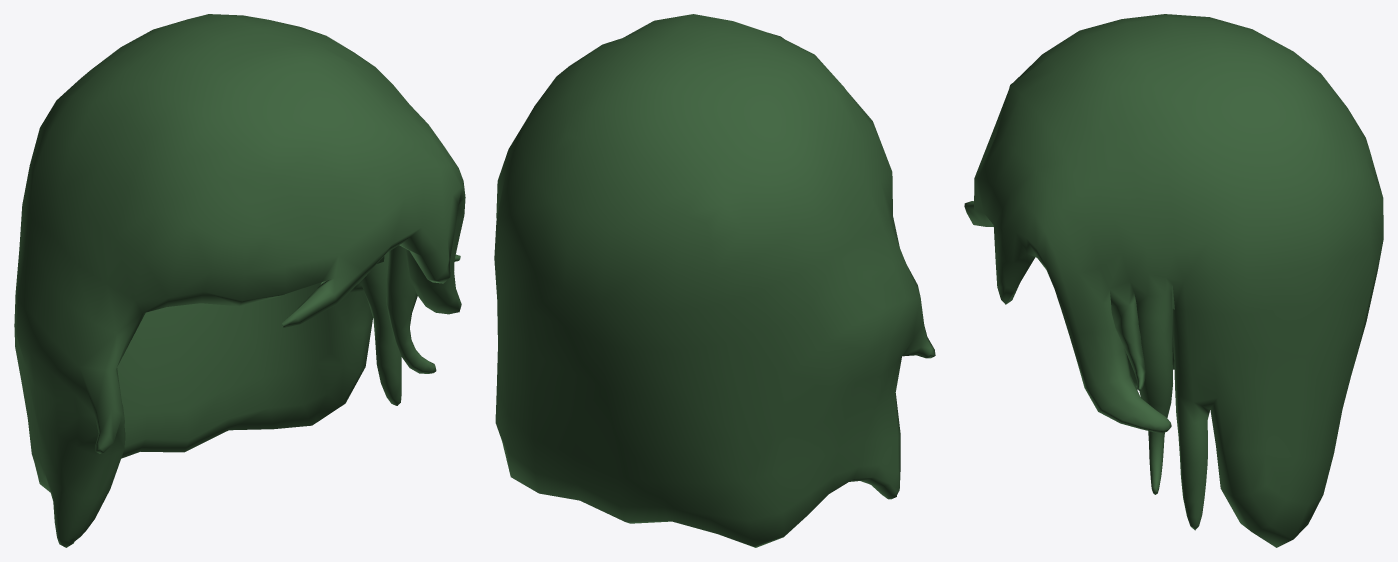
The model's file is Girl Hair 09.glb.
3 renders of one model, left to right at view 1: azimuth 30°, elevation 25°; view 2: azimuth 150°, elevation 25°; view 3: azimuth 270°, elevation 25°, orthographic. The views are drawn at different scales.
Parts seen in each view (by area): view 1: GirlHair9; view 2: GirlHair9; view 3: GirlHair9.
Part boxes in pixels (box(x1,y1,x2,y2)): GirlHair9: box(14, 14, 465, 547); GirlHair9: box(494, 14, 935, 547); GirlHair9: box(964, 14, 1383, 547).
Bounding box in the file's own units: 0.0106 × 0.0114 × 0.00949.
